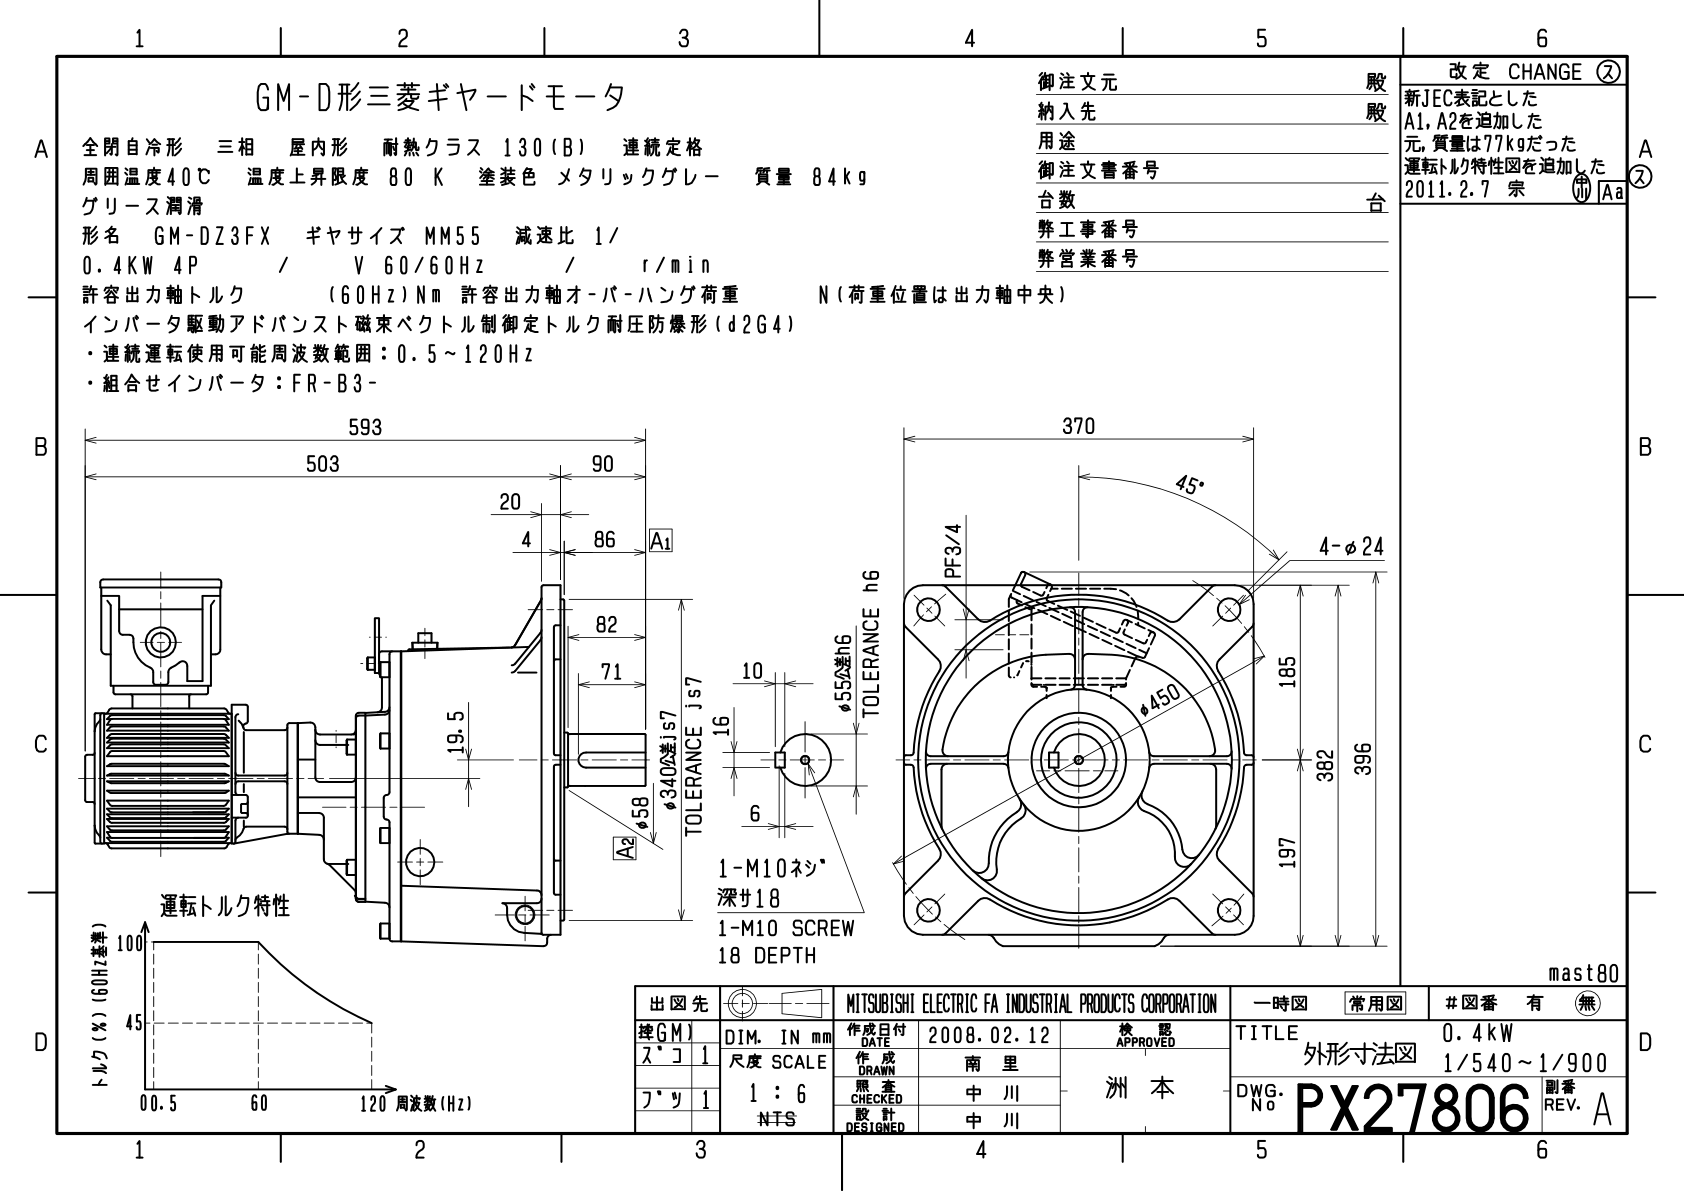GM_D_制御屋内_三相_フランジ: (63, 409, 1393, 973)
